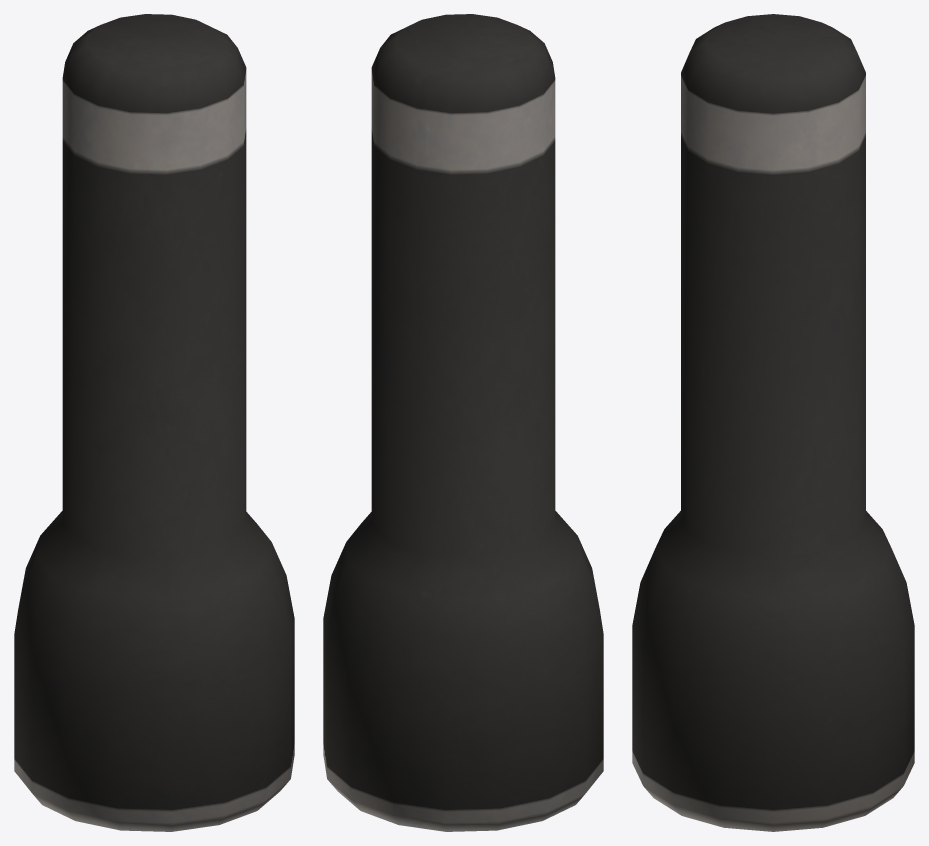
The model's file is SMP_MOD_Flashlight.fbx.
3 views of the same model, side by side, from view 1: azimuth 30°, elevation 25°; view 2: azimuth 150°, elevation 25°; view 3: azimuth 270°, elevation 25° (orthographic).
Visible parts, largest first — view 1: SMGP_MOD_Flashlight; view 2: SMGP_MOD_Flashlight; view 3: SMGP_MOD_Flashlight.
Part boxes in pixels (left/top/right/bottom): SMGP_MOD_Flashlight: left=14, top=14, right=294, bottom=831; SMGP_MOD_Flashlight: left=323, top=14, right=603, bottom=831; SMGP_MOD_Flashlight: left=632, top=14, right=914, bottom=831.
Size of the model in its own units: 0.0611 by 0.1753 by 0.0611.
